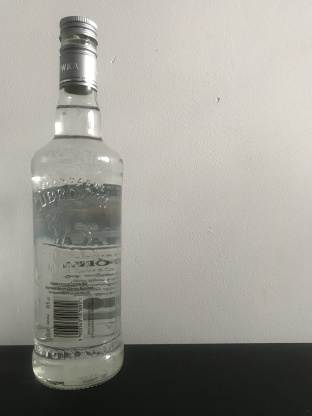nakretka: (57, 13, 99, 93)
